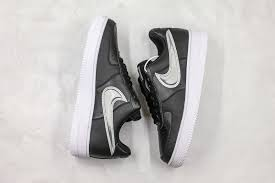nike: (148, 18, 196, 104), (93, 75, 131, 169)
